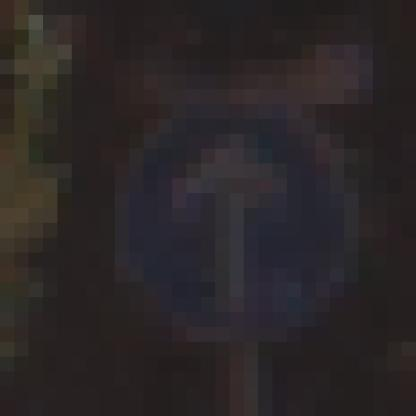AheadOnly: (87, 90, 331, 328)
